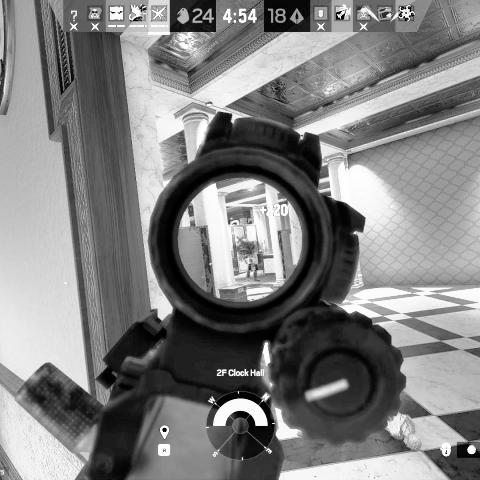Character: (242, 239, 263, 282)
